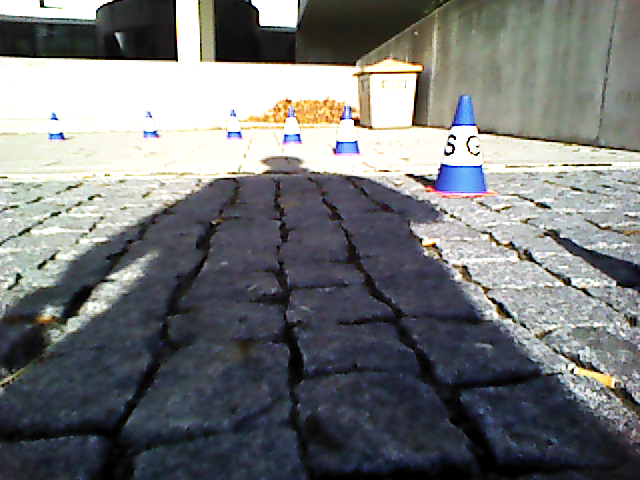bluecone: (437, 95, 486, 193), (334, 107, 361, 154), (284, 108, 301, 143), (229, 111, 243, 137)
